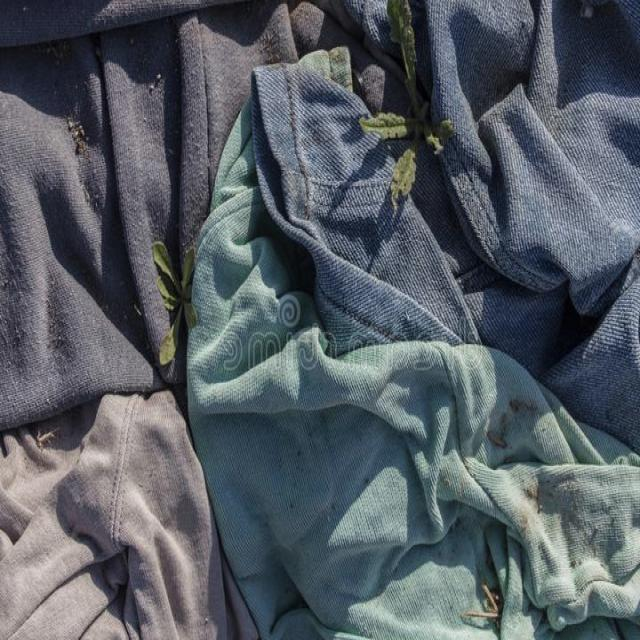clothes: (87, 182, 640, 633)
